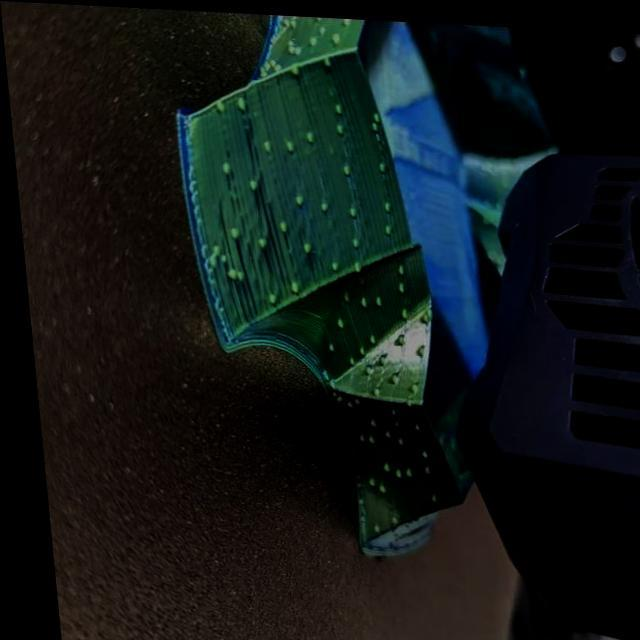zits: (222, 259, 243, 286), (282, 32, 306, 54), (238, 171, 260, 192), (315, 49, 336, 67), (280, 132, 296, 155), (364, 286, 382, 306), (316, 334, 332, 354), (222, 222, 240, 239), (342, 231, 358, 250), (366, 476, 382, 495), (389, 256, 404, 276), (371, 153, 388, 170), (213, 158, 230, 175), (232, 94, 247, 113), (208, 93, 223, 112), (394, 458, 408, 478), (340, 200, 357, 216), (288, 189, 304, 206), (320, 254, 337, 270), (326, 27, 344, 42), (295, 236, 310, 254), (413, 304, 428, 322), (350, 288, 365, 306), (261, 286, 276, 304), (363, 116, 382, 130), (342, 258, 361, 272), (272, 214, 286, 233), (302, 124, 314, 146), (303, 30, 319, 46), (370, 348, 386, 364), (356, 468, 372, 484), (374, 508, 390, 524), (340, 347, 355, 364), (330, 96, 344, 114), (284, 276, 298, 294), (250, 232, 264, 250), (330, 116, 345, 132), (388, 327, 402, 344), (256, 135, 270, 152), (359, 326, 372, 344), (411, 458, 426, 473), (382, 413, 397, 428), (288, 59, 300, 77), (378, 400, 389, 418), (378, 218, 392, 232), (324, 388, 338, 402), (316, 17, 328, 33), (314, 197, 326, 213), (350, 338, 362, 354), (337, 158, 350, 172), (388, 278, 402, 291), (382, 368, 395, 382), (404, 414, 418, 427), (356, 428, 369, 442), (408, 341, 421, 354), (374, 422, 387, 435), (328, 312, 340, 326), (398, 378, 412, 390), (392, 302, 402, 318), (334, 288, 347, 300), (421, 490, 432, 504), (388, 430, 399, 444), (350, 427, 360, 442), (346, 390, 358, 402), (338, 396, 350, 408), (362, 412, 371, 427), (411, 444, 422, 456), (373, 456, 382, 470), (384, 464, 394, 476), (378, 198, 389, 206)
